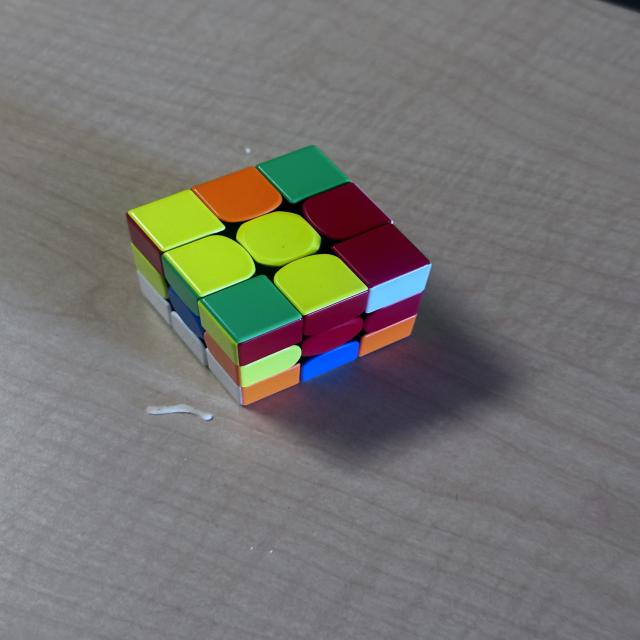sticker: (197, 276, 304, 364), (330, 223, 430, 316), (272, 254, 368, 334), (206, 333, 303, 405), (163, 235, 255, 306), (128, 190, 224, 253), (254, 145, 350, 207), (300, 183, 390, 241), (194, 166, 284, 223), (236, 211, 321, 268), (215, 316, 302, 368), (298, 292, 368, 339), (360, 290, 423, 336), (235, 364, 303, 406), (235, 346, 302, 388), (126, 214, 165, 282), (298, 318, 362, 358), (162, 255, 202, 318), (358, 315, 416, 358), (300, 342, 361, 382), (167, 286, 205, 344), (170, 311, 208, 368), (132, 242, 168, 301), (137, 270, 170, 327), (203, 331, 234, 383)
